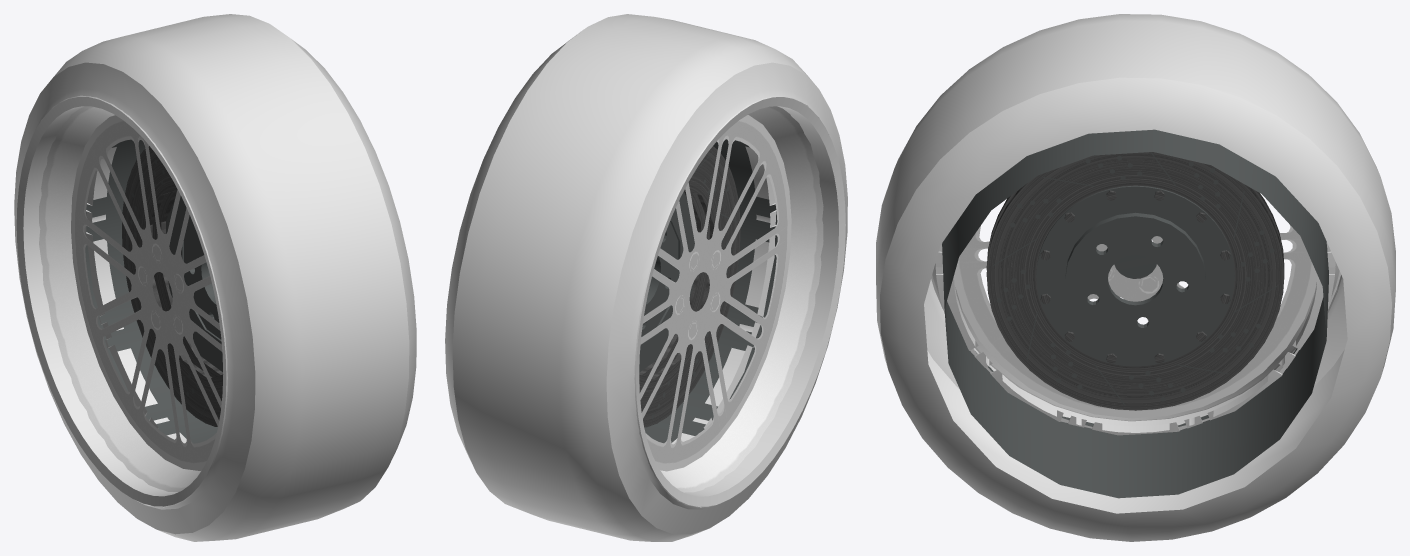
Rendered from BlurWheel.fbx.
3 views of the same model, side by side, from view 1: azimuth 30°, elevation 25°; view 2: azimuth 150°, elevation 25°; view 3: azimuth 270°, elevation 25° (orthographic).
Visible parts, largest first — view 1: wheel; view 2: wheel; view 3: wheel.
Boxes of the visible parts, x1,y1,x2,y2 form: wheel: [14, 14, 416, 541]; wheel: [445, 14, 847, 541]; wheel: [876, 14, 1395, 541].
Size of the model in its own units: 25.15 by 58.32 by 58.32.
